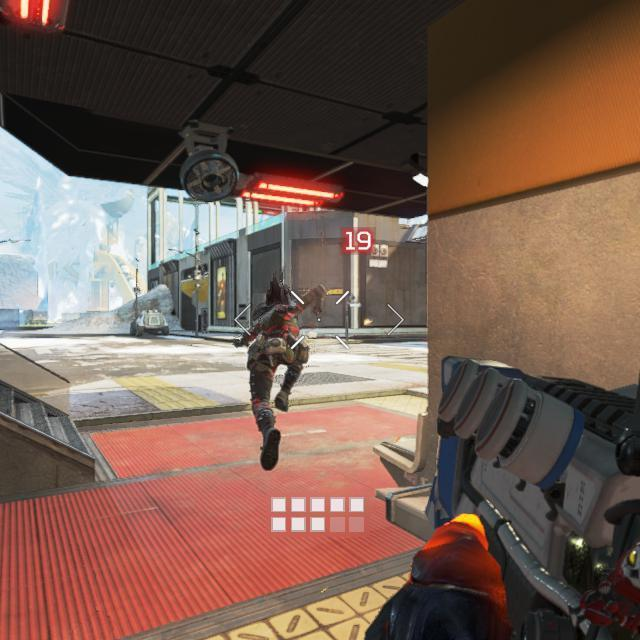avatar: (235, 275, 312, 472)
